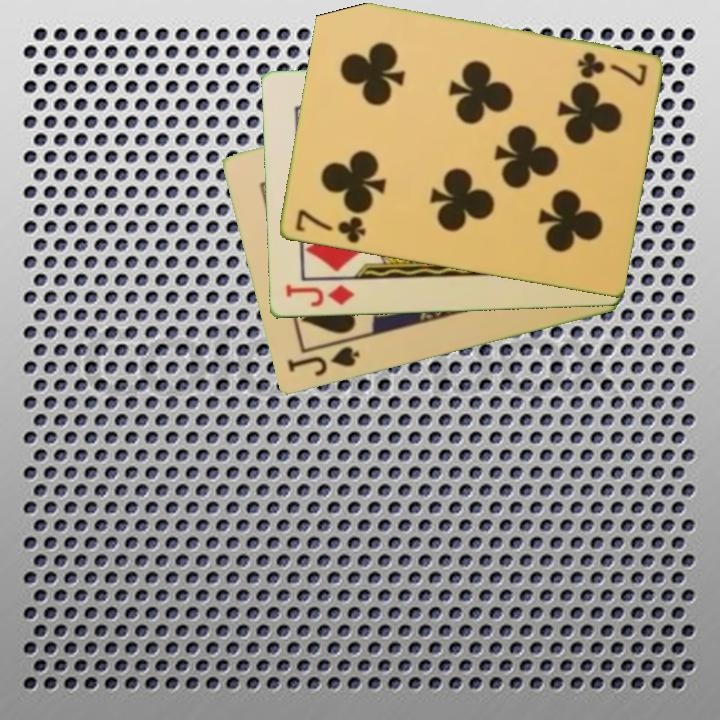7c: (291, 206, 368, 246), (573, 49, 650, 89)
Jd: (281, 282, 357, 311)
Js: (283, 343, 363, 380)
